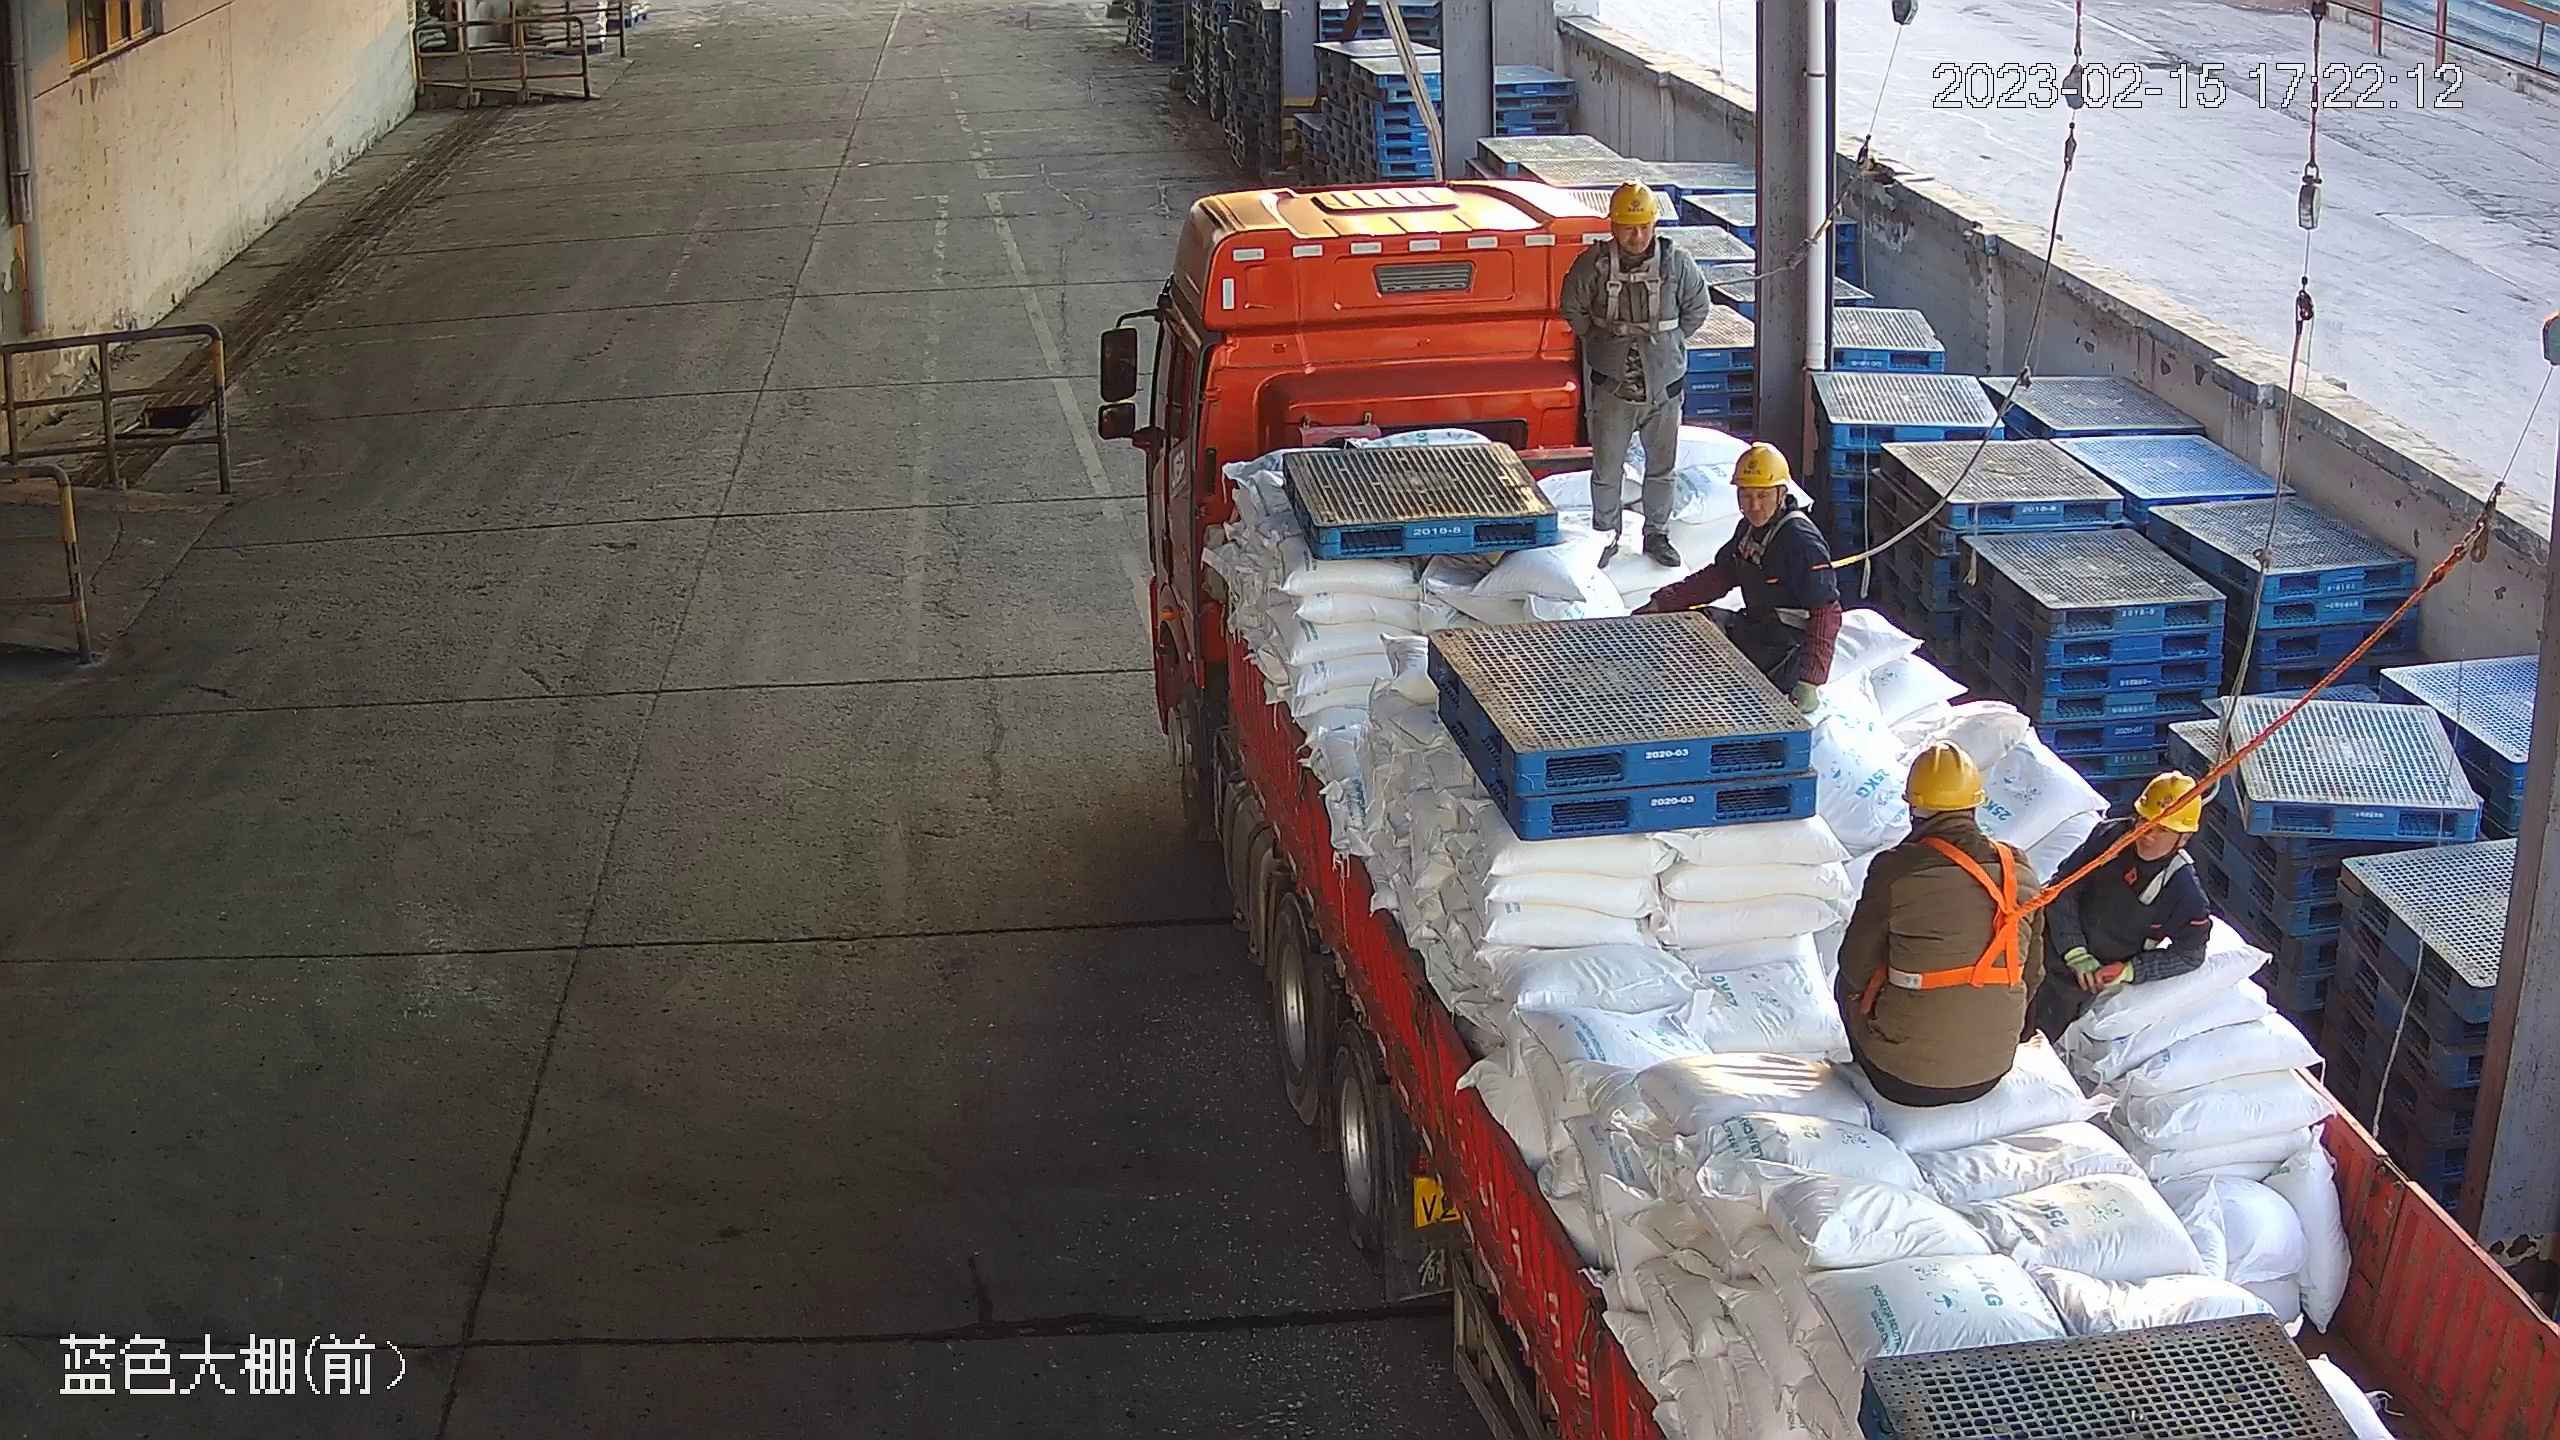belt: (1899, 837, 2039, 990), (1600, 253, 1684, 337), (2107, 862, 2184, 944), (1732, 513, 1802, 588)
head: (1865, 743, 2034, 899), (2077, 772, 2206, 895), (1720, 446, 1832, 576), (1579, 181, 1697, 281)
helmet: (1895, 743, 1993, 806), (2135, 771, 2204, 839), (1730, 441, 1783, 488), (1609, 178, 1662, 222)
people: (1841, 741, 2048, 1106), (1549, 179, 1711, 572), (1628, 441, 1842, 729), (2032, 755, 2218, 1046)
truck: (1083, 178, 2560, 1440)
